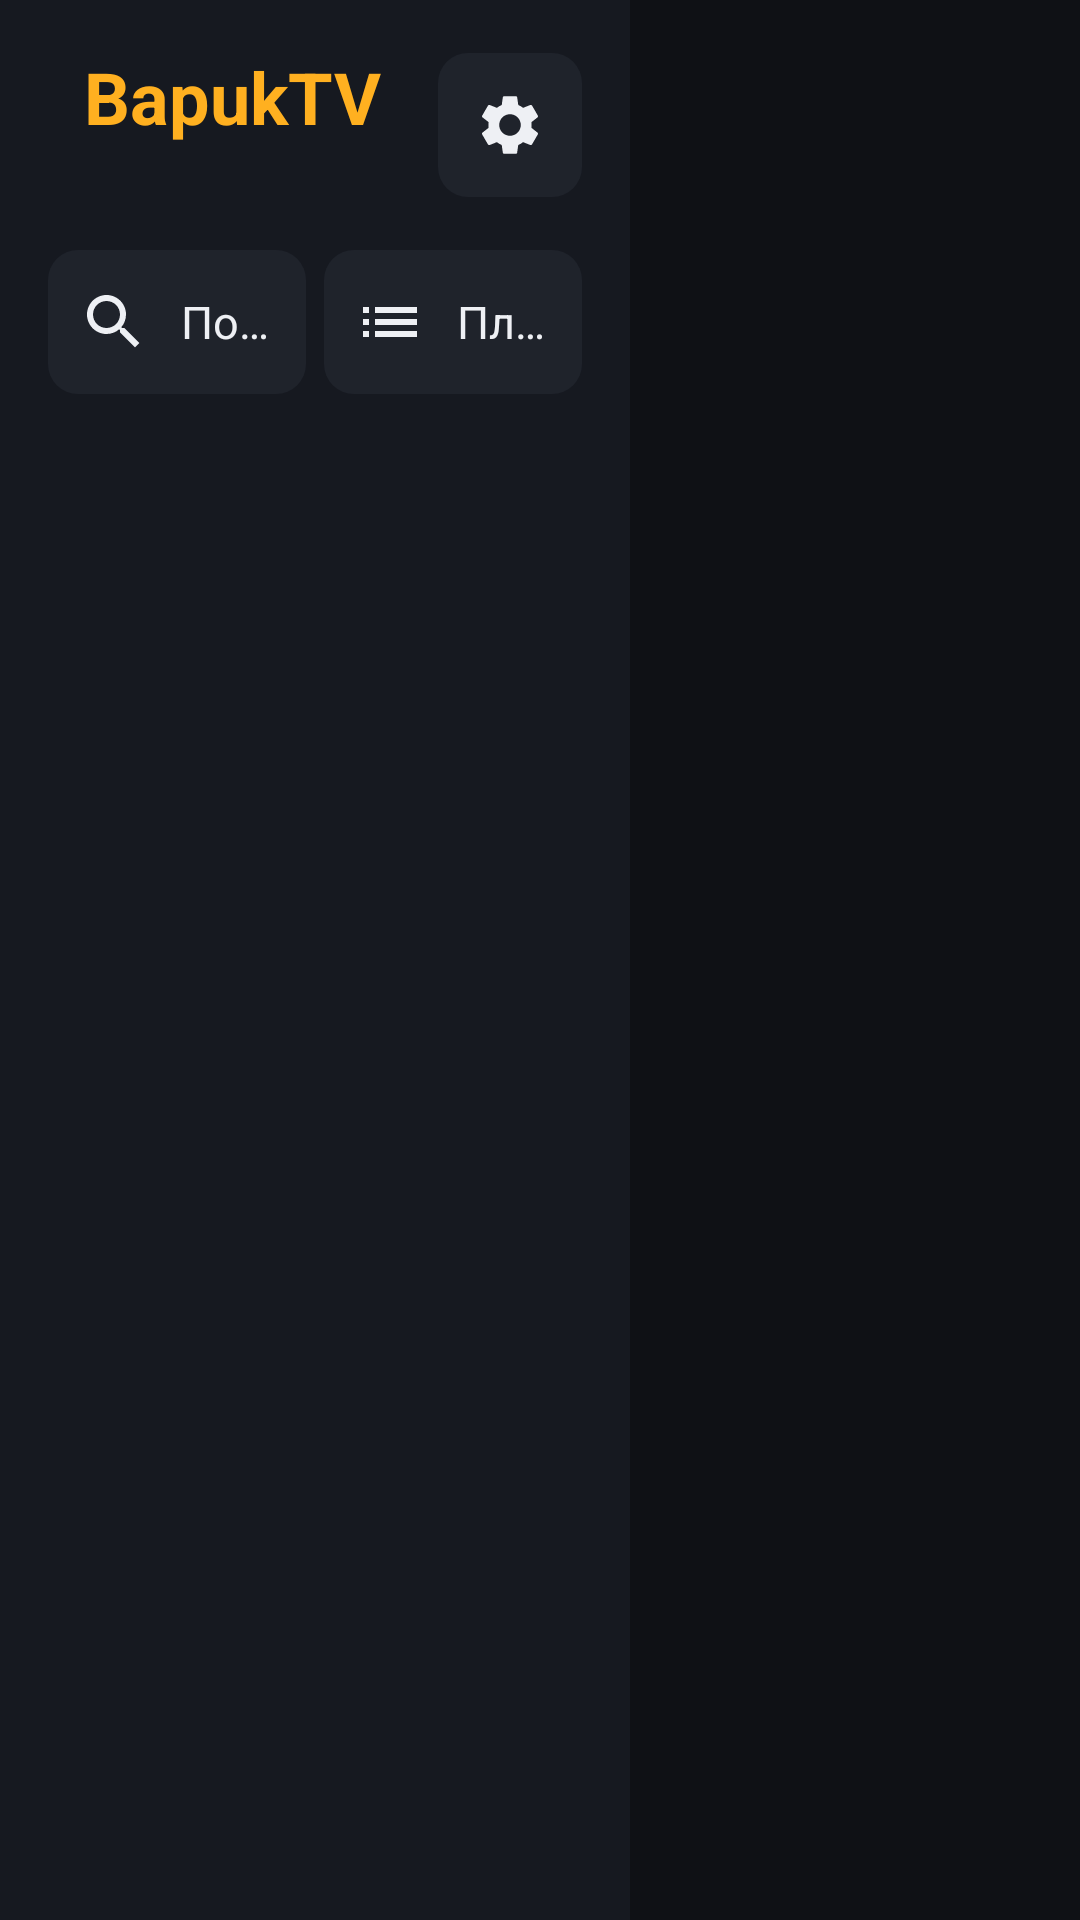

Point at icon controls on the screen. Image size 1080*1920, points as point (x, y).
Настройки: point (510, 125)
